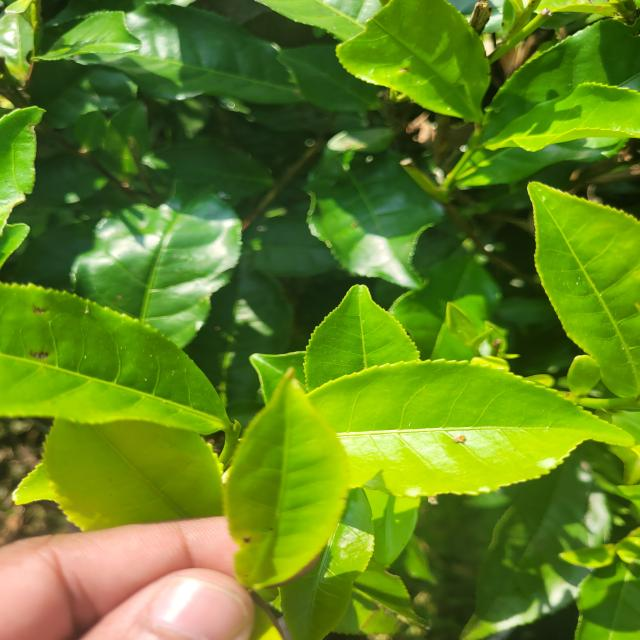Catagory A 1-2 days: (201, 359, 358, 607)
